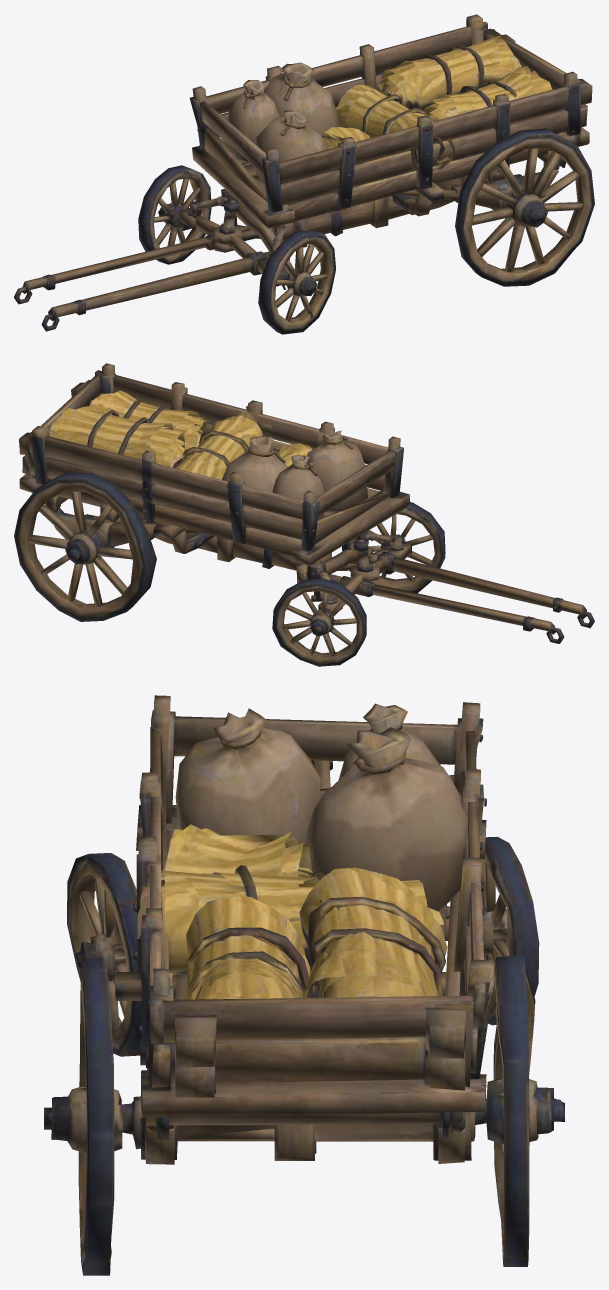
The model's file is horse_cart.glb.
3 views of the same model, one above another, from view 1: azimuth 30°, elevation 25°; view 2: azimuth 150°, elevation 25°; view 3: azimuth 270°, elevation 25° (orthographic). The views are drawn at different scales.
Size of the model in its own units: 0.9497 by 0.3322 by 0.411.
Materials: 1 (1 with a texture image).
